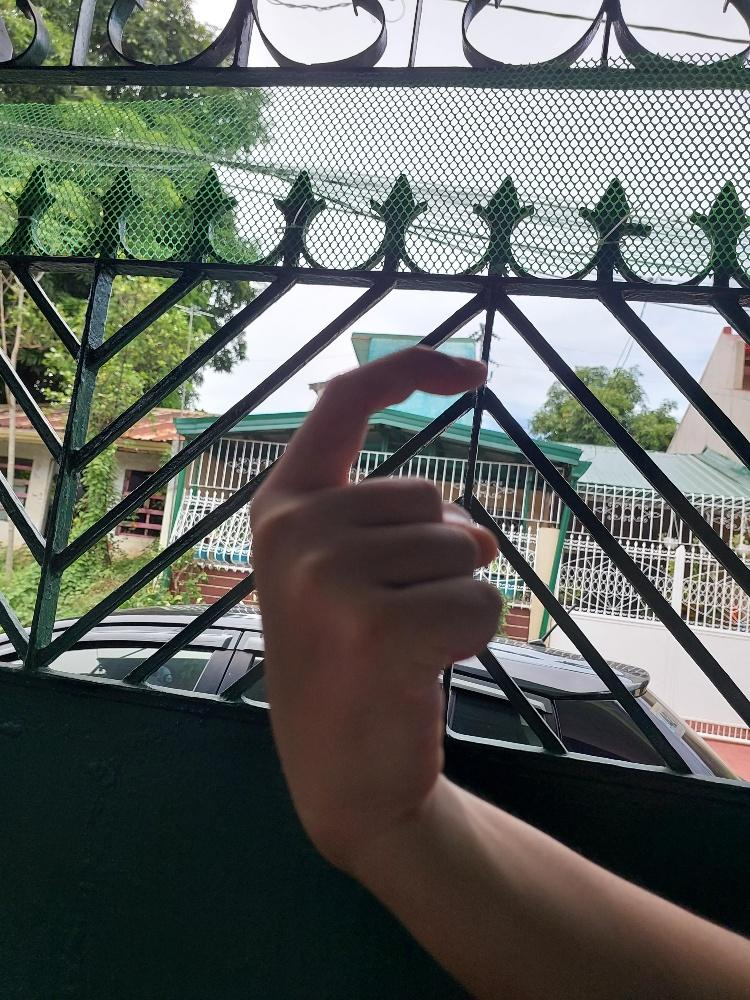x: (245, 340, 510, 847)
